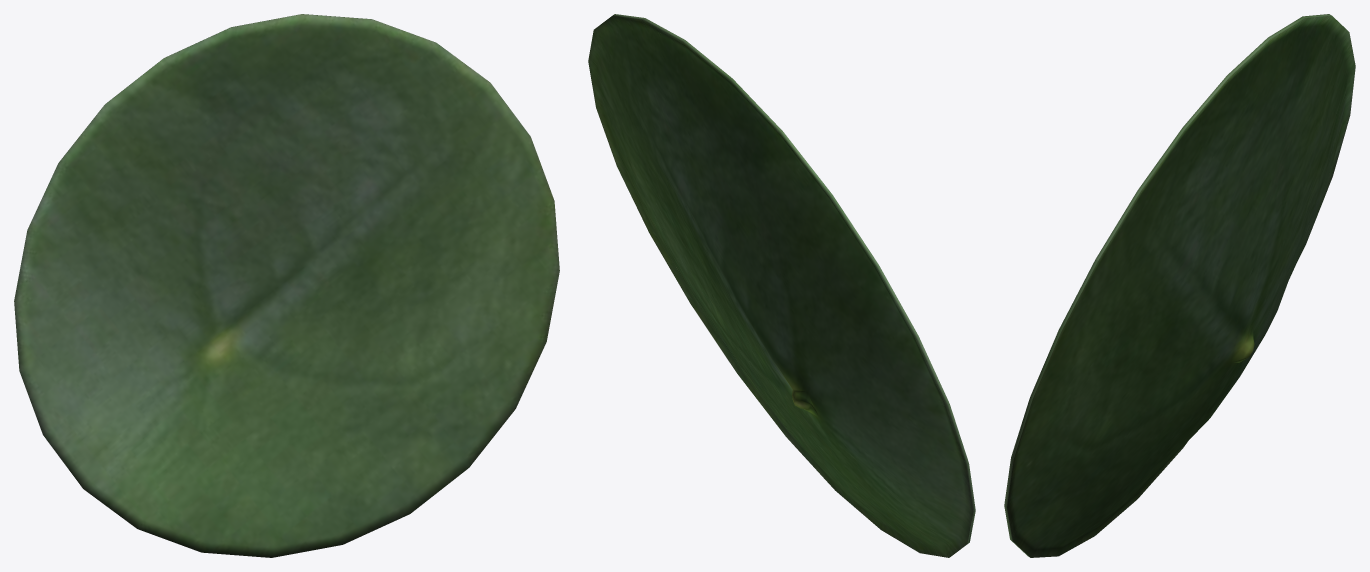
The picture shows the model from 3 angles, left to right: view 1: azimuth 30°, elevation 25°; view 2: azimuth 150°, elevation 25°; view 3: azimuth 270°, elevation 25°; orthographic projection. The views are drawn at different scales.
Visible parts, largest first — view 1: Plane.006; view 2: Plane.006; view 3: Plane.006.
Boxes of the visible parts, x1=… form: Plane.006: x1=14, y1=14, x2=559, y2=557; Plane.006: x1=588, y1=14, x2=975, y2=557; Plane.006: x1=1004, y1=14, x2=1355, y2=557.
Size of the model in its own units: 1.15 by 1.18 by 0.6705.
Materials: 1 (1 with a texture image).
